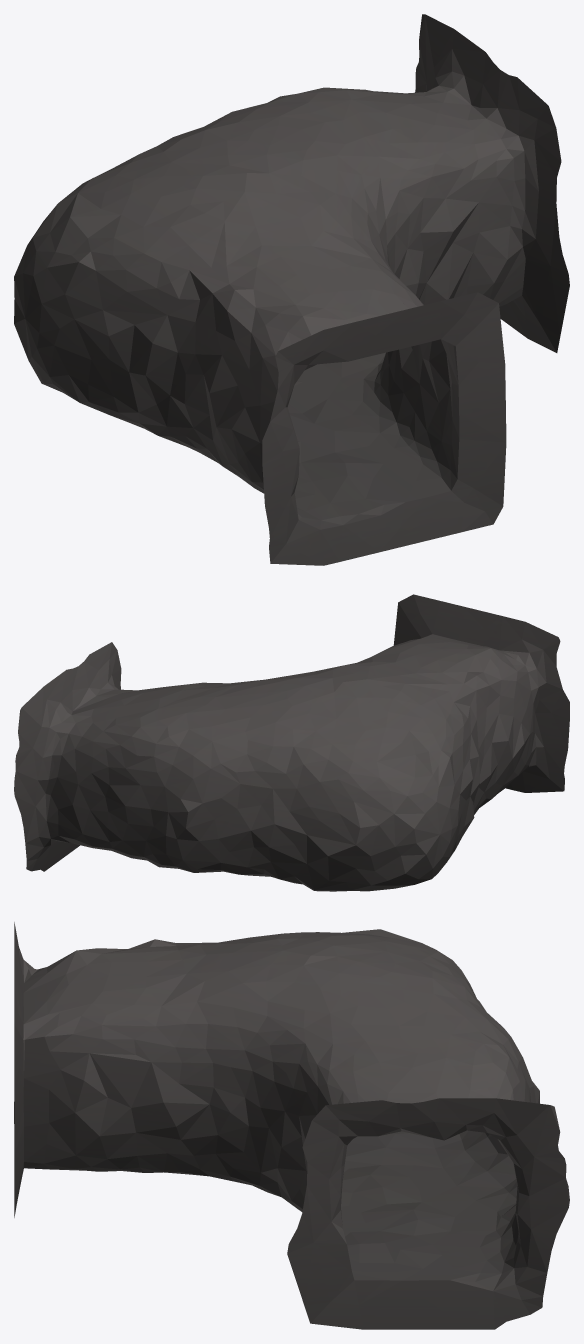
The model's file is ZLP_Cave_A_6.FBX.
The picture shows the model from 3 angles, top to bottom: view 1: azimuth 30°, elevation 25°; view 2: azimuth 150°, elevation 25°; view 3: azimuth 270°, elevation 25°; orthographic projection. The views are drawn at different scales.
Visible parts, largest first — view 1: ZLP_Cave_A_6; view 2: ZLP_Cave_A_6; view 3: ZLP_Cave_A_6.
Part boxes in pixels (<box>): ZLP_Cave_A_6: <box>14,14,569,565</box>; ZLP_Cave_A_6: <box>14,594,569,891</box>; ZLP_Cave_A_6: <box>14,922,569,1329</box>.
Size of the model in its own units: 2994 by 1535 by 3259.
